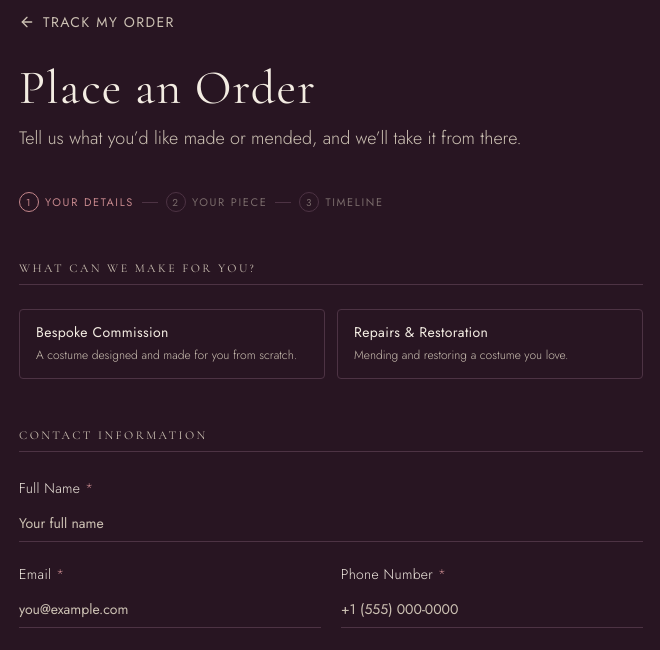
Test case: OrderForm — commission capacity › offers the waitlist once a commission is picked and the books are closed
What coordinates should you click on to do the following:
click the button with test id "service-option-bespoke"
I would click on:
 (172, 344)
Its box is [19,309,325,378].
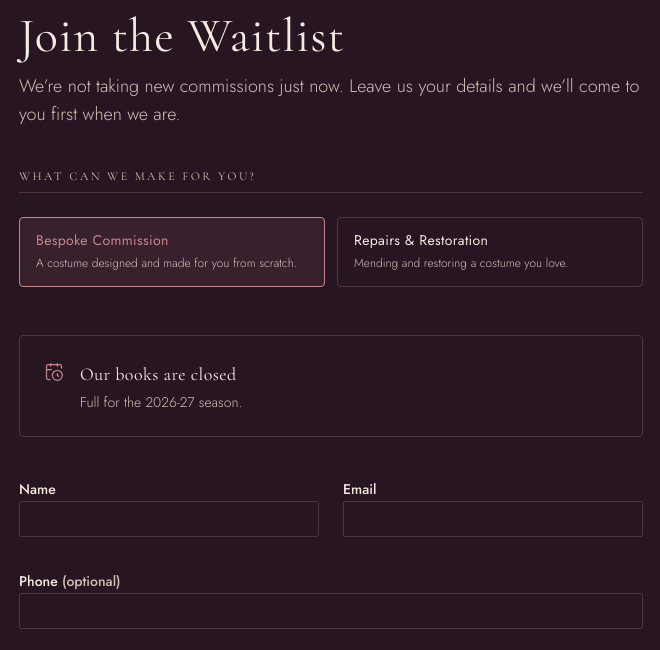
Expected: the text "Full for the 2026-27 season." is shown, [80,392,242,412]
